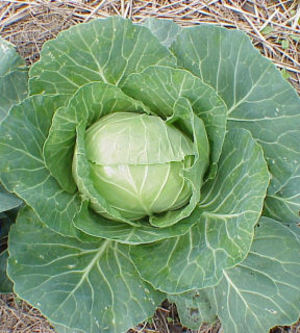cabbage: (0, 18, 299, 332)
